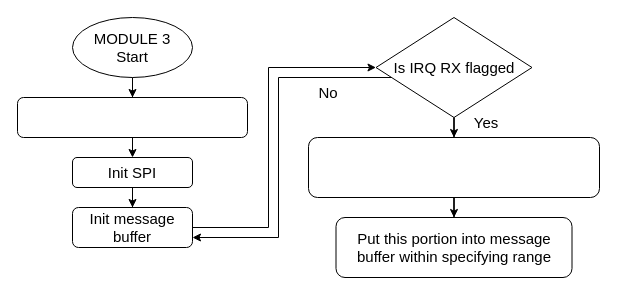
Image size: 617x295. Some labels were removed from this diagram. The box of each missing label's shape, as (x1, y1, x2, y2) in pixels:
Init LCD: (16, 96, 248, 138)
Read packet header and find what is the partion of the message: (308, 136, 600, 198)
